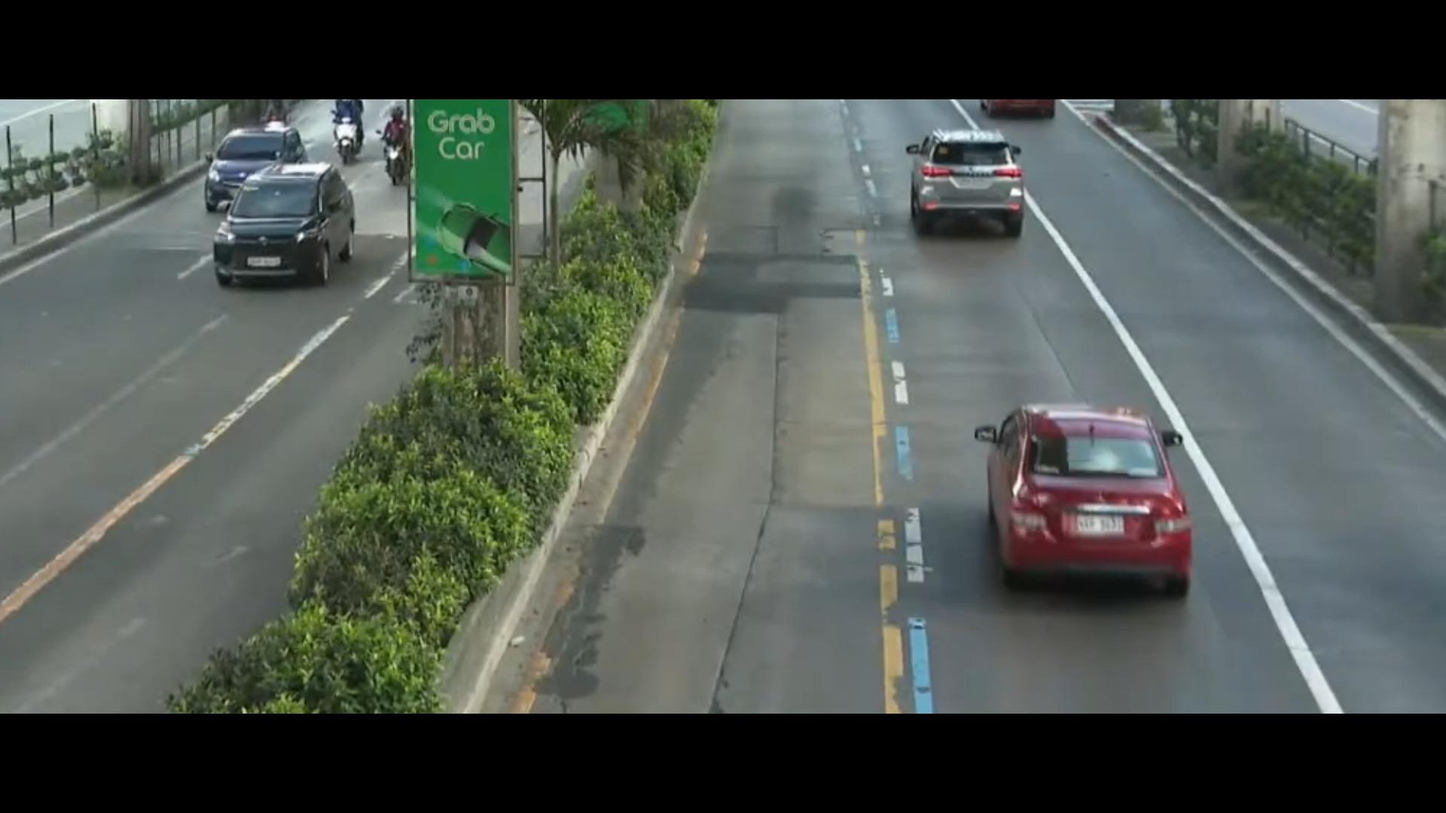Motorcycle: (375, 107, 418, 179), (317, 102, 366, 164)
SUV: (895, 117, 1052, 247), (207, 175, 356, 292), (185, 104, 311, 215)
Sedan: (953, 394, 1225, 598)
